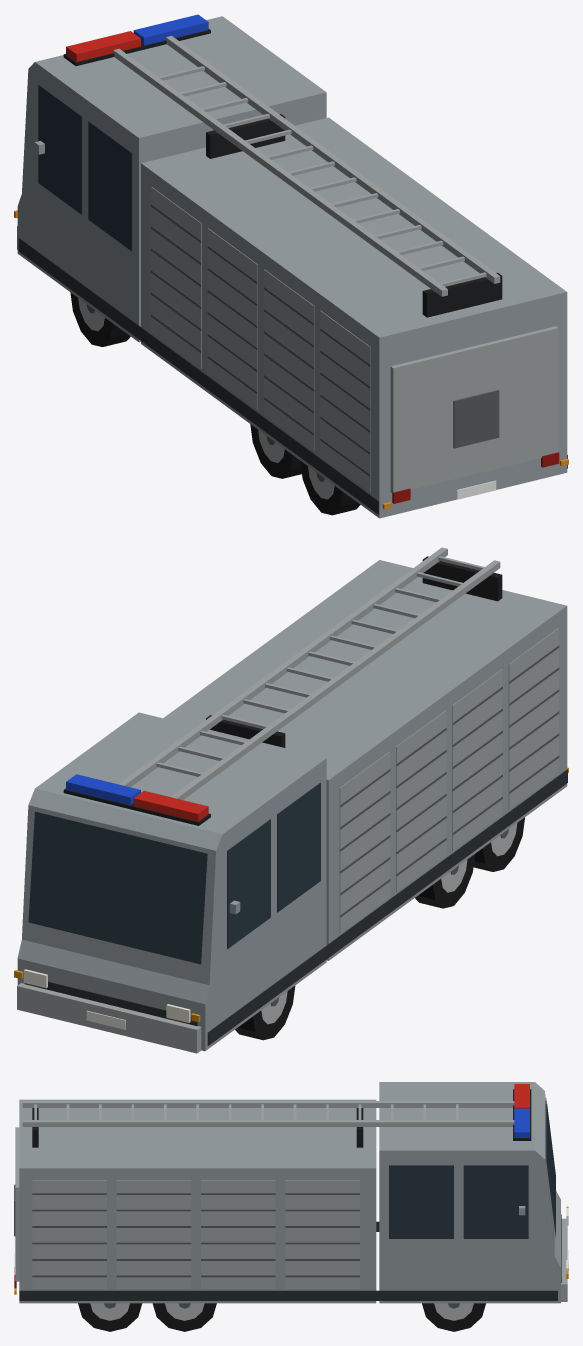
Rendered from fire.glb.
3 views of the same model, one above another, from view 1: azimuth 30°, elevation 25°; view 2: azimuth 150°, elevation 25°; view 3: azimuth 270°, elevation 25° (orthographic). The views are drawn at different scales.
Visible parts, largest first — view 1: Fire, Red, Blue; view 2: Fire, Red, Blue, LightBase; view 3: Fire, Blue, Red.
Part boxes in pixels (x1,y1,x2,y2): Fire: (17, 16, 567, 518); Red: (66, 31, 140, 61); Blue: (133, 14, 208, 45); Fire: (17, 547, 567, 1053); Red: (133, 790, 208, 821); Blue: (66, 774, 140, 805); LightBase: (63, 788, 210, 825); Fire: (14, 1082, 568, 1331); Blue: (514, 1108, 529, 1137); Red: (514, 1084, 529, 1108).
Bounding box in the file's own units: 2.68 × 3.24 × 8.55.
